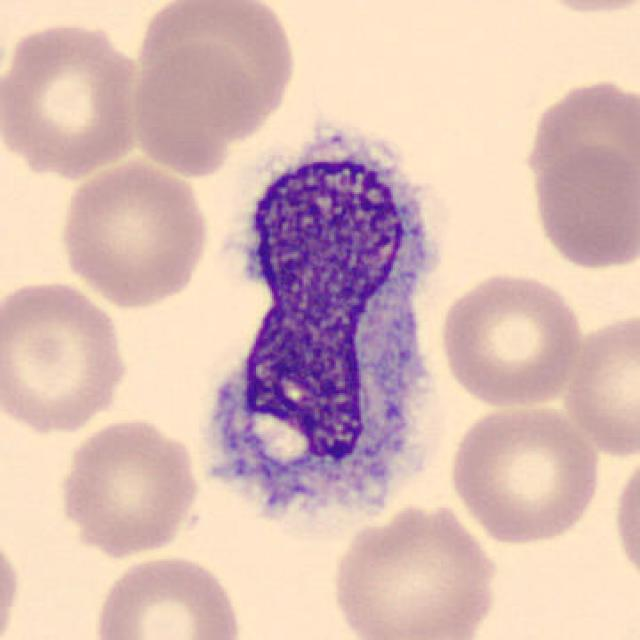Monocyte: (196, 111, 454, 550)
RBC: (325, 499, 503, 640), (55, 155, 213, 310), (0, 16, 148, 178), (444, 398, 604, 546), (132, 0, 300, 134), (53, 414, 203, 559), (436, 268, 586, 411), (0, 275, 133, 435), (126, 37, 265, 178), (519, 73, 638, 214), (526, 141, 638, 273), (89, 550, 245, 640), (558, 305, 638, 462), (610, 444, 640, 594), (0, 525, 23, 640), (519, 0, 640, 16)
